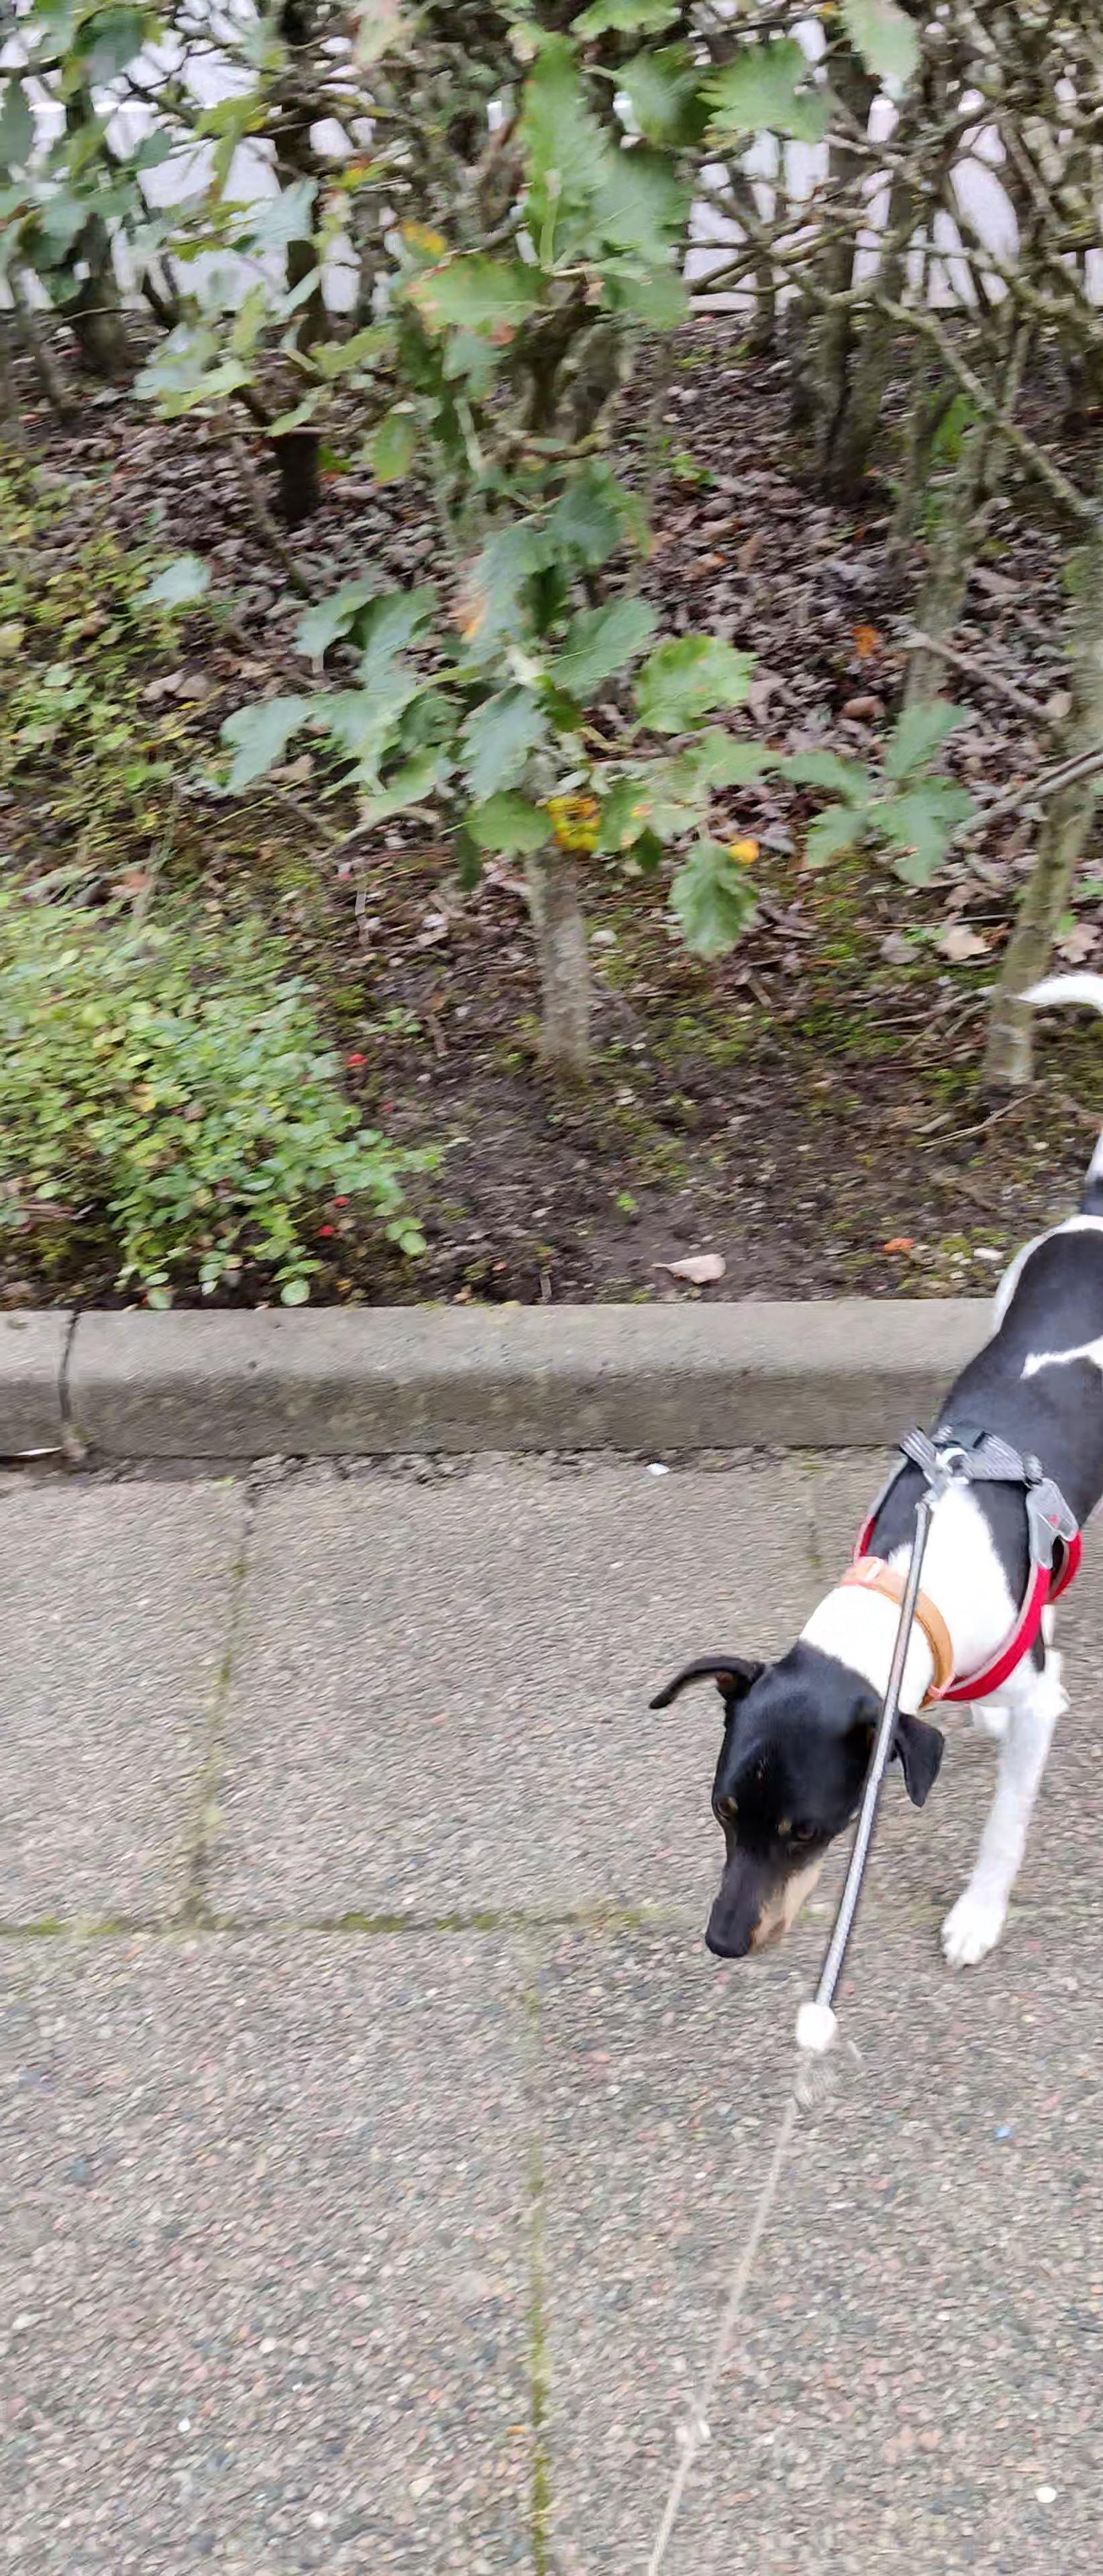Dog: (635, 956, 1103, 1980)
